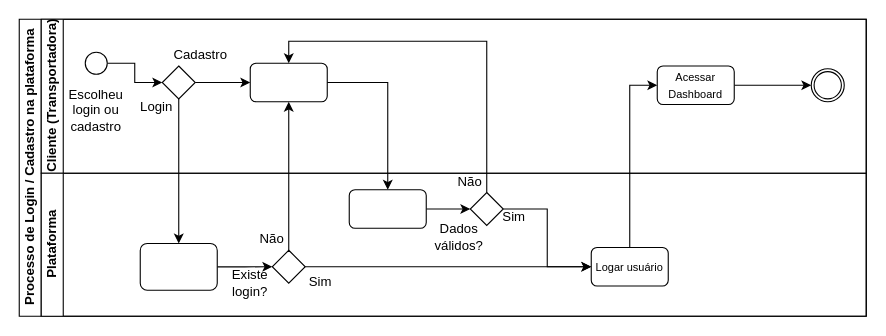
Some shapes in this 886 by 336 pixel diagram are drawn without their labels. The shapes that lost their labels are listed below. From the top down, each one's centre as x and y in pixels, then its label:
At (x=288, y=82): "Criar cadastro".
At (x=387, y=208): "Verificar dados".
At (x=178, y=266): "Verificar login".
